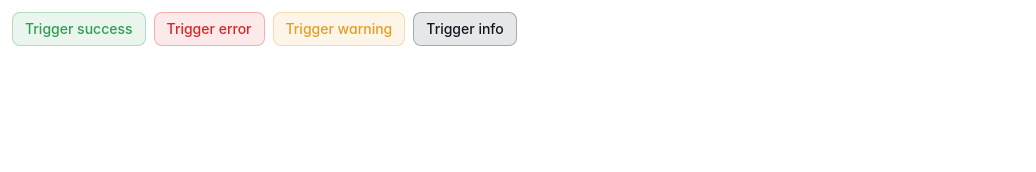
it: ToastNotificationStack › dismisses a toast when its close button is clicked
Click the button "Trigger info".
click(465, 29)  # box [413, 12, 517, 46]
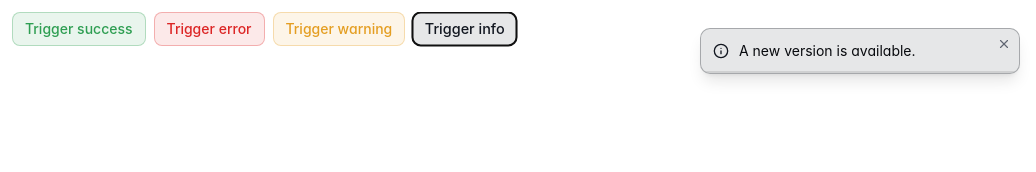
Check: the message "A new version is available." is shown, box [700, 28, 1020, 74]
Click the button named "Dismiss notification".
click(1004, 44)  # box [997, 37, 1011, 51]
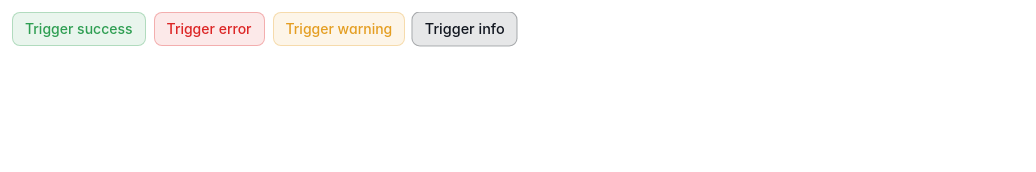
Check: the message "A new version is available." is gone
